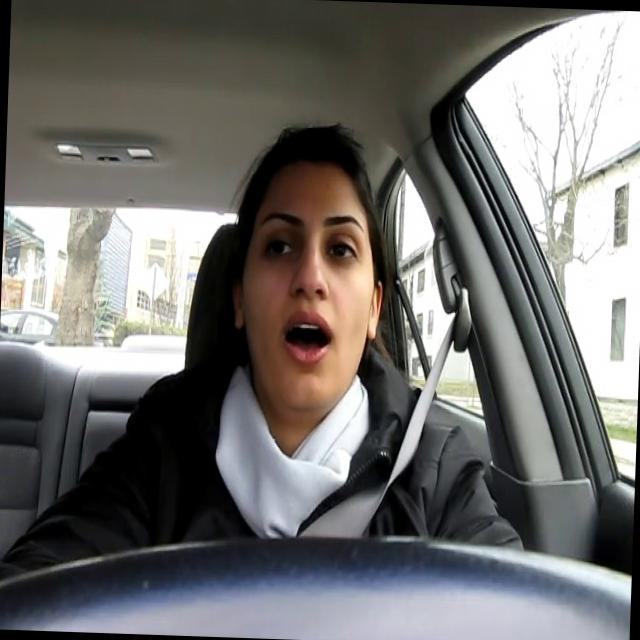open-mouth: (279, 308, 334, 369)
